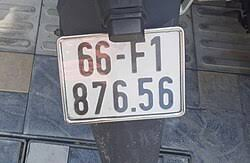Bien-so: (57, 23, 189, 127)
